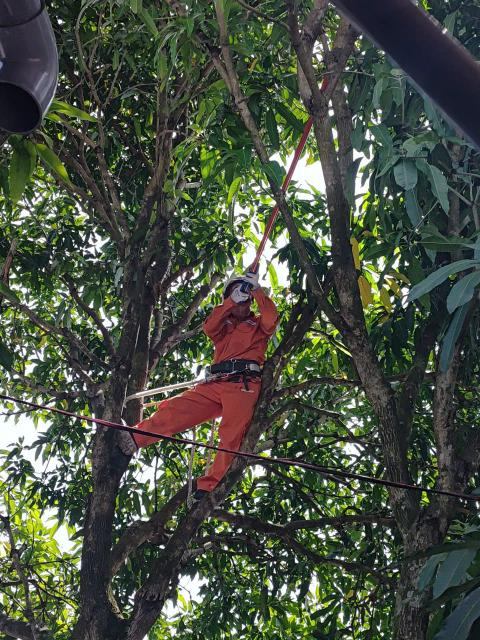gloves: (229, 280, 253, 304), (241, 267, 263, 291)
helmet: (219, 271, 262, 301)
shoes: (182, 473, 221, 511), (107, 418, 144, 454)
